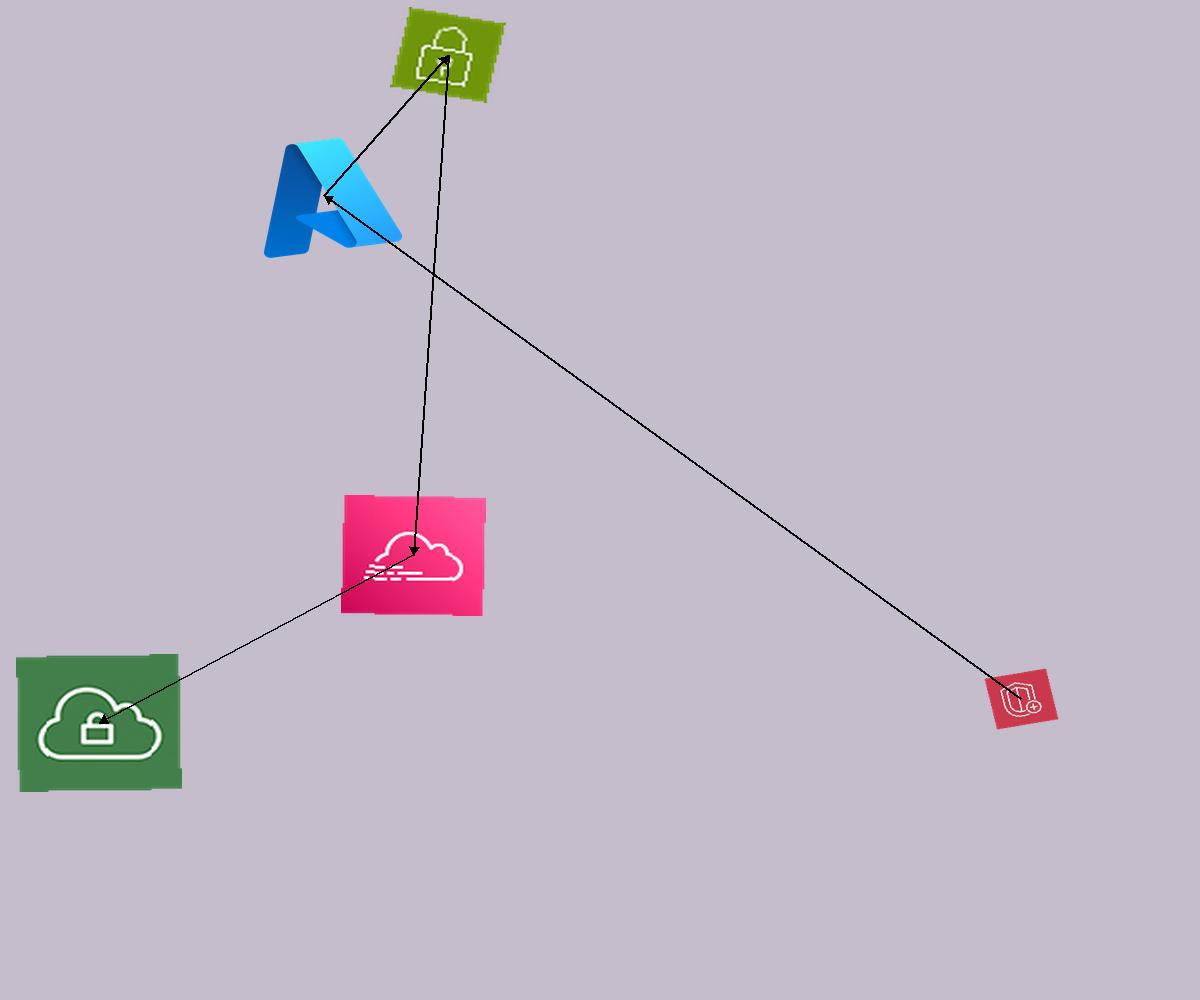AWS-CloudTrail: (341, 495, 486, 616)
AWS-Private_vpc: (16, 654, 182, 792)
AWS-Public-subnet: (390, 7, 506, 103)
AWS-Shield: (984, 668, 1059, 730)
Azure_services: (237, 123, 411, 268)
